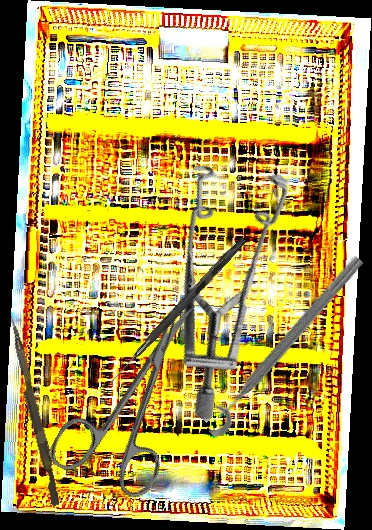Fixation Ring: (189, 242, 370, 441)
Hook Surgical: (108, 235, 247, 387)
Iris Scissors: (44, 278, 238, 511)
Pusher: (1, 314, 66, 507)
Speculum: (72, 128, 364, 424)
